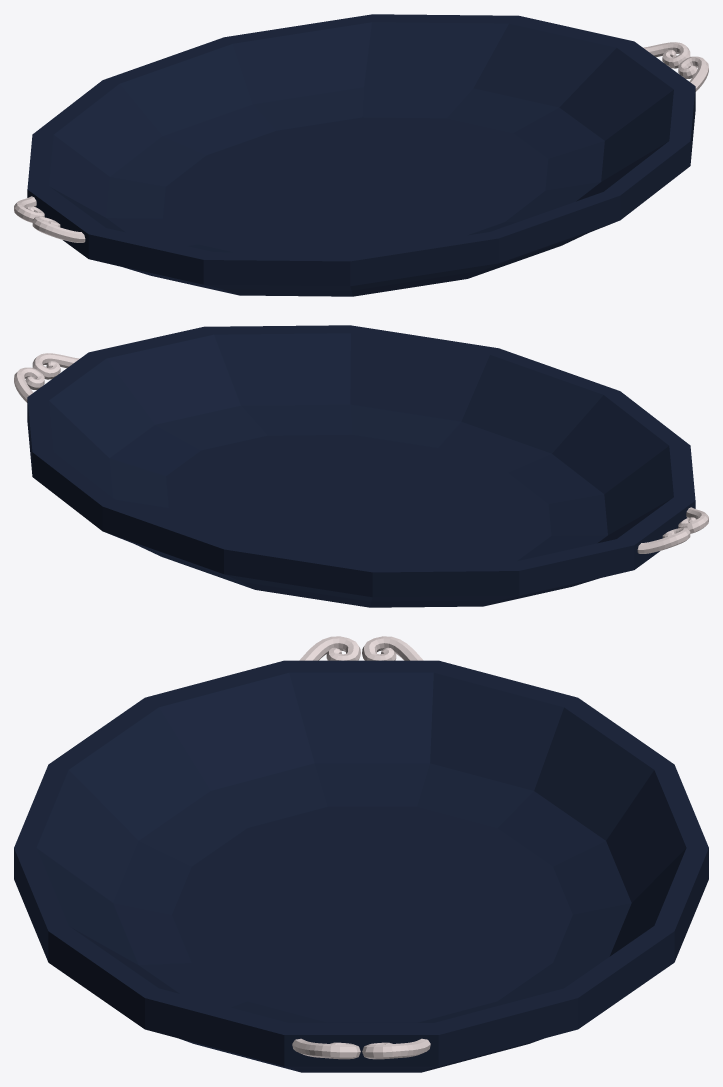
Rendered from Cooking_pot.fbx.
3 views of the same model, one above another, from view 1: azimuth 30°, elevation 25°; view 2: azimuth 150°, elevation 25°; view 3: azimuth 270°, elevation 25° (orthographic). The views are drawn at different scales.
Visible parts, largest first — view 1: Torus.004; view 2: Torus.004; view 3: Torus.004.
Boxes of the visible parts, box(x1,y1,x2,y2) form: Torus.004: box(14, 14, 708, 296); Torus.004: box(14, 325, 708, 607); Torus.004: box(14, 636, 708, 1072).
Size of the model in its own units: 152 by 14.75 by 108.
1 material, 1 textured.
